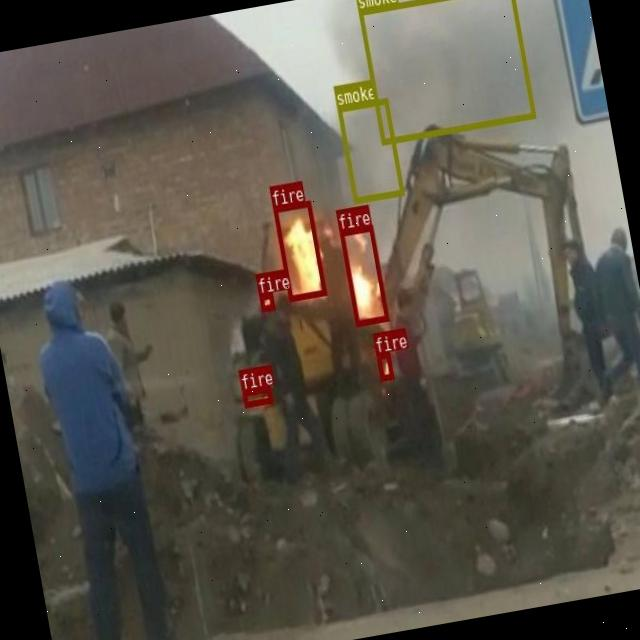fire: (272, 199, 326, 300), (338, 224, 388, 325), (240, 384, 272, 406), (376, 350, 393, 380), (258, 291, 274, 310)
smoke: (357, 0, 535, 143), (336, 98, 403, 202)
